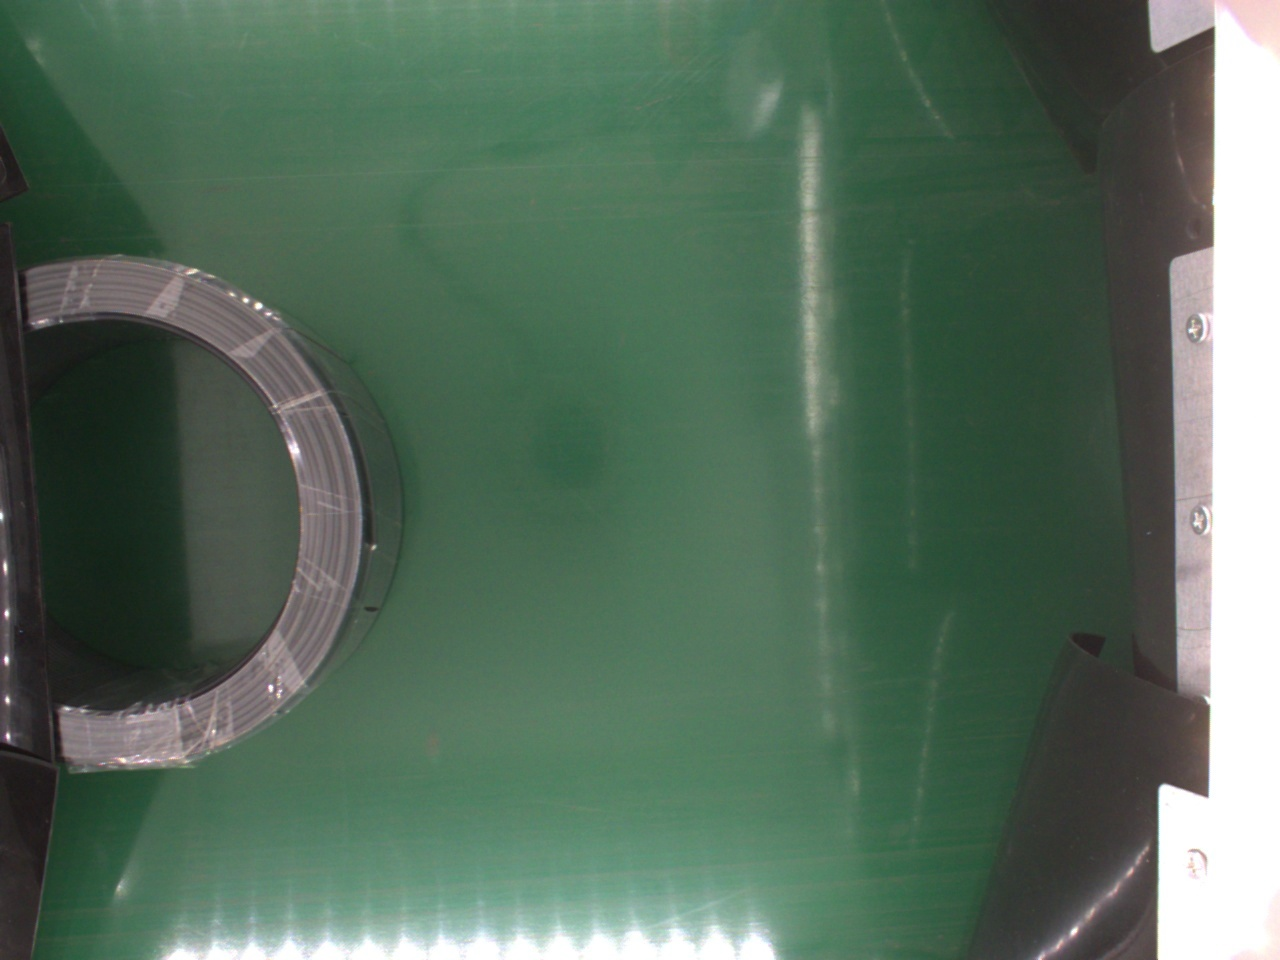black: (30, 256, 406, 776)
